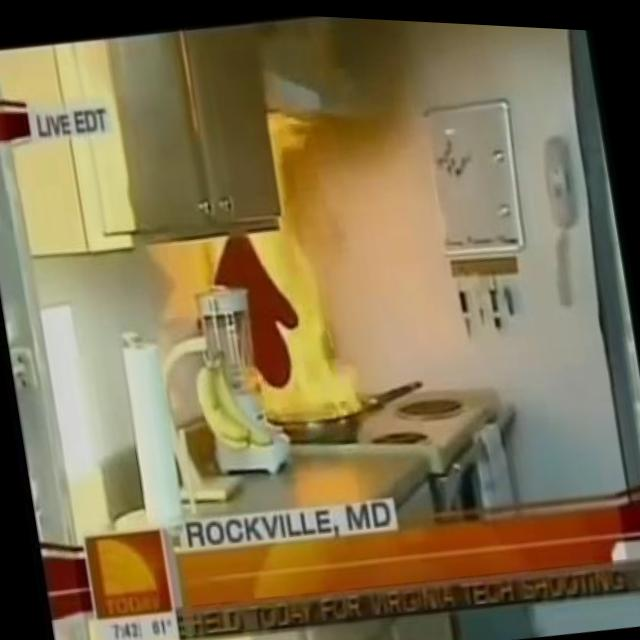fire: (221, 175, 372, 432)
